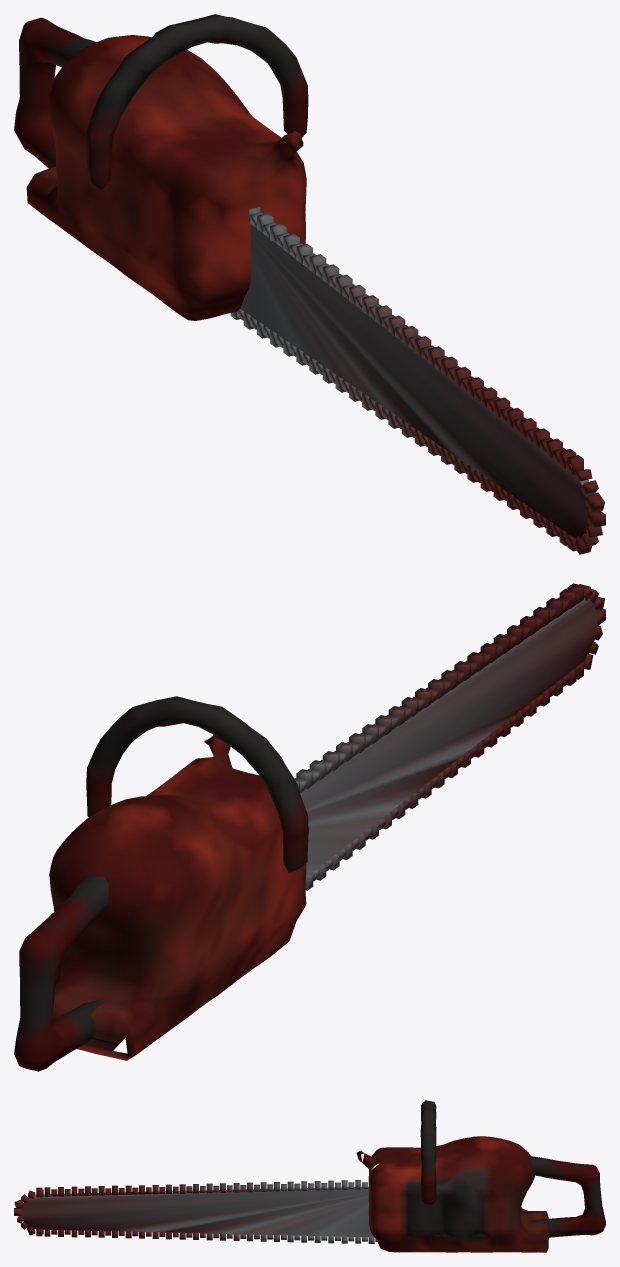
The model's file is chainsaw_xlo.glb.
3 views of the same model, one above another, from view 1: azimuth 30°, elevation 25°; view 2: azimuth 150°, elevation 25°; view 3: azimuth 270°, elevation 25° (orthographic). The views are drawn at different scales.
Visible parts, largest first — view 1: chainsaw; view 2: chainsaw; view 3: chainsaw.
Boxes of the visible parts, box(x1,y1,x2,y2) form: chainsaw: box(14, 14, 605, 554); chainsaw: box(14, 583, 605, 1071); chainsaw: box(14, 1100, 605, 1252).
Size of the model in its own units: 0.2377 by 0.2778 by 1.1.
